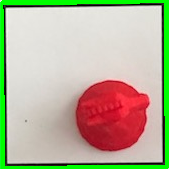Red Knight: (70, 77, 154, 154)
